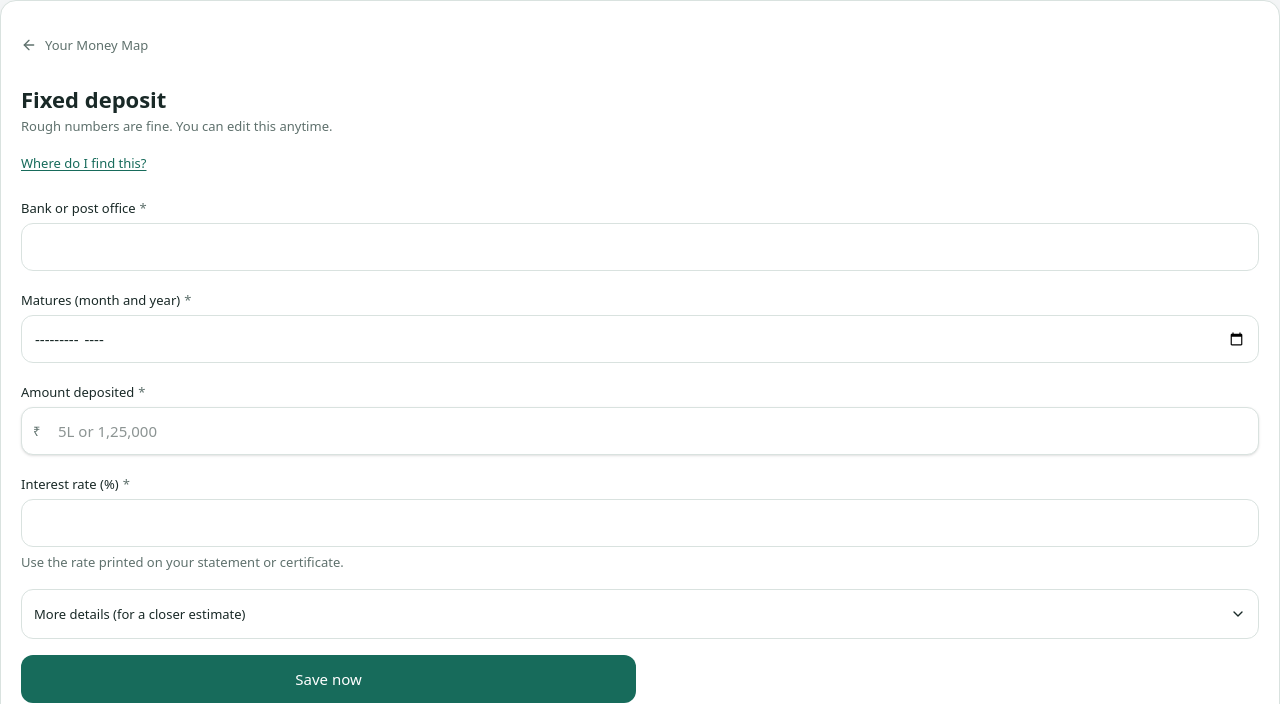
asset forms and autosave › shows the certificate prompt for a rate_needed response
In the field labelled "Bank or post office*": (640, 247) left=21, top=223, right=1259, bottom=271, type "Demo Bank"
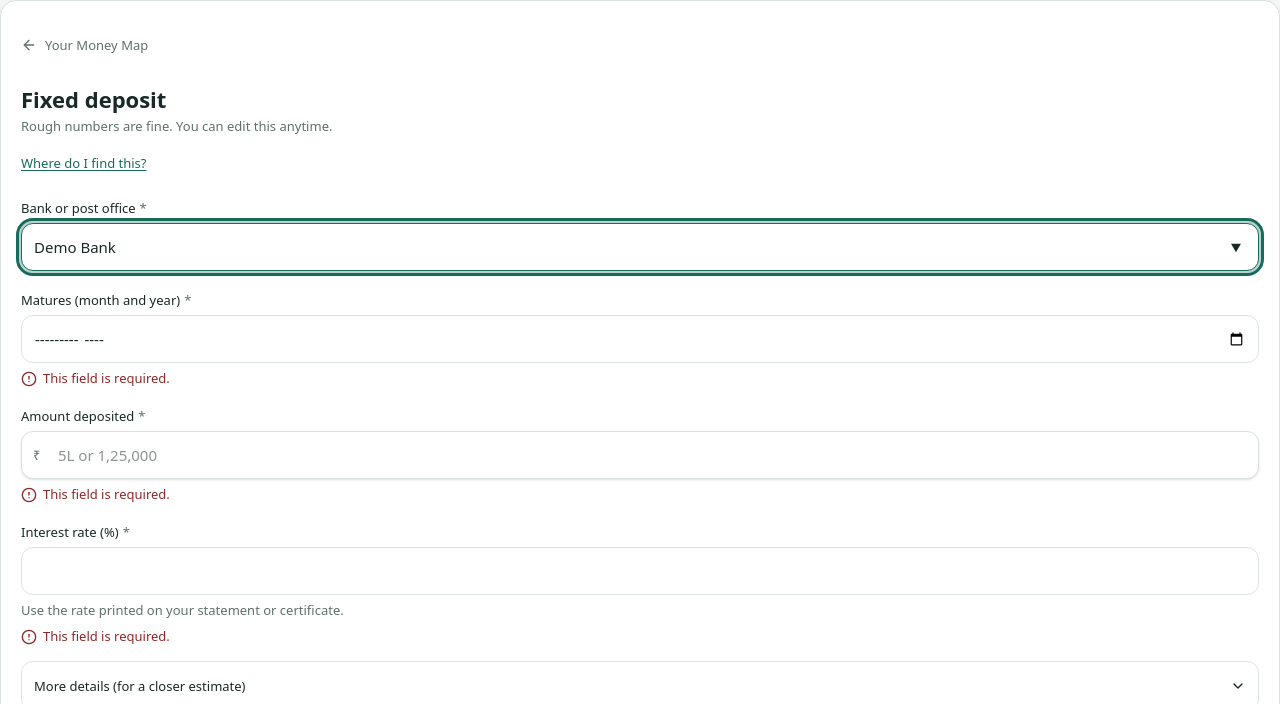
In the field labelled "Amount deposited*": (640, 455) left=21, top=431, right=1259, bottom=479, type "5L"
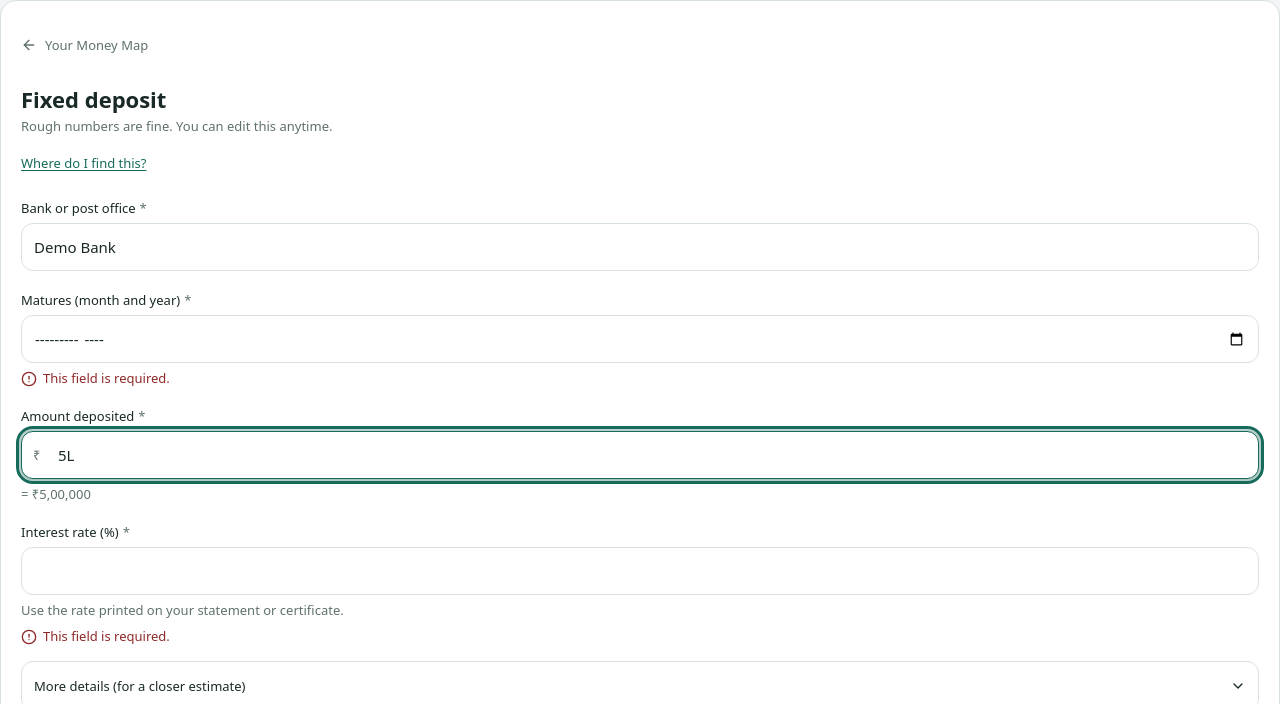
In the field labelled "Interest rate (%)*": (640, 571) left=21, top=547, right=1259, bottom=595, type "7.10"
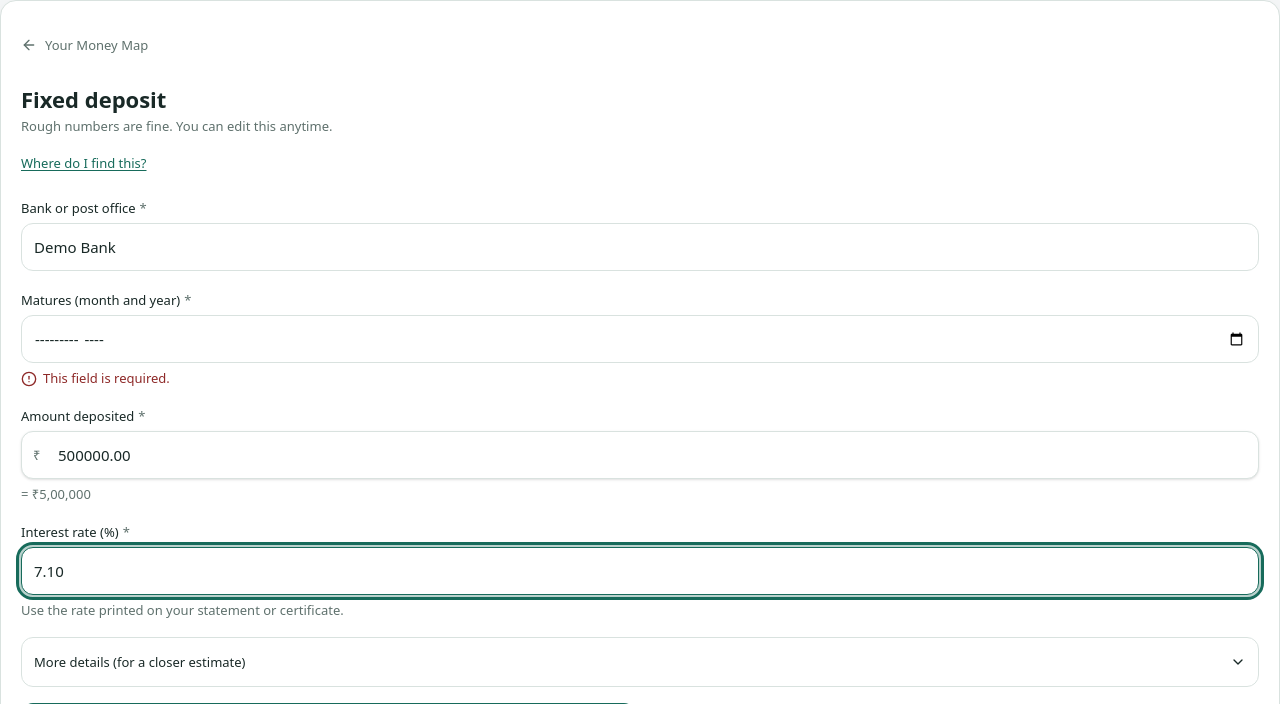
In the field labelled "Matures (month and year)*": (640, 339) left=21, top=315, right=1259, bottom=363, type "2027-03"
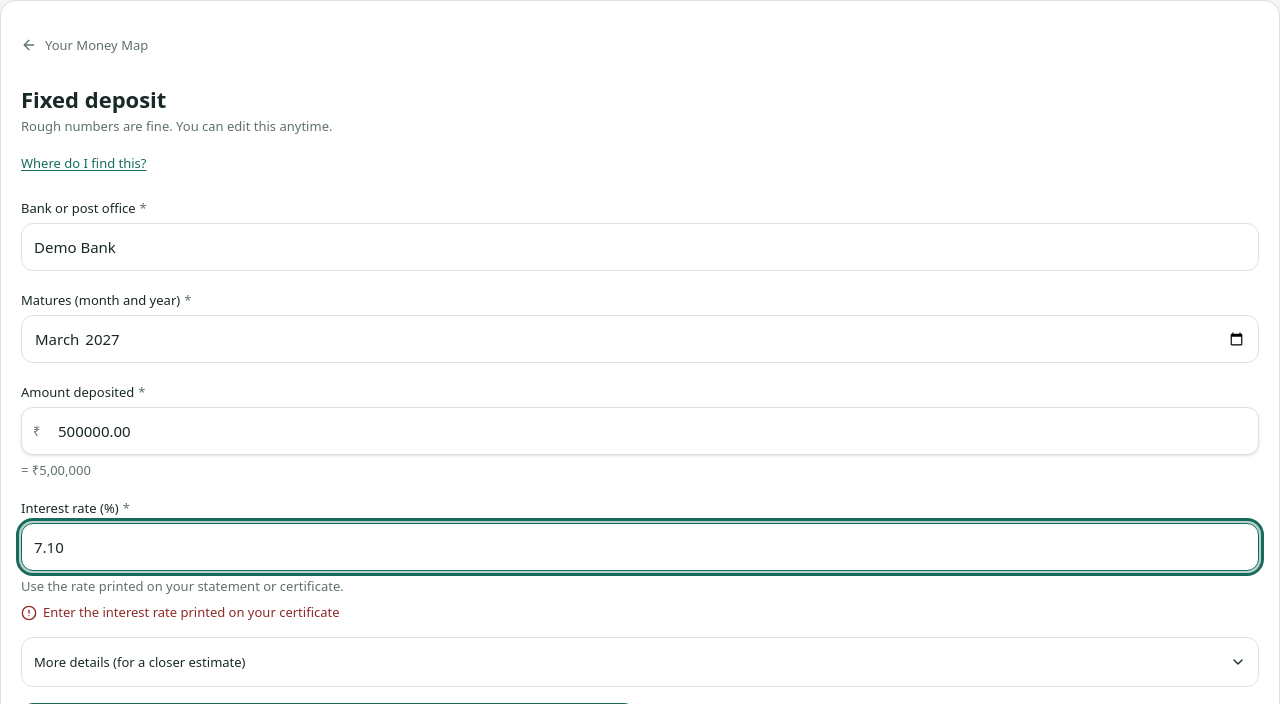
Check: the text "Enter the interest rate printed on your certificate" is shown, box left=21, top=603, right=340, bottom=621
